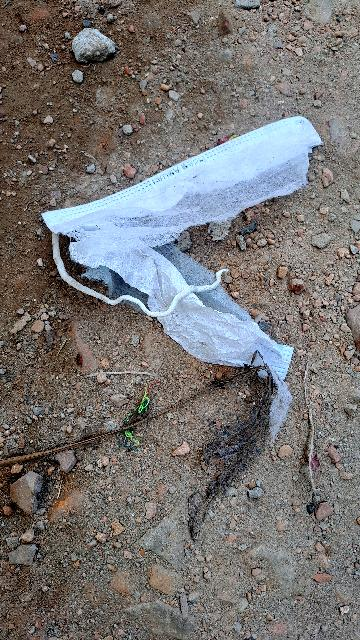mask: (44, 105, 347, 287)
